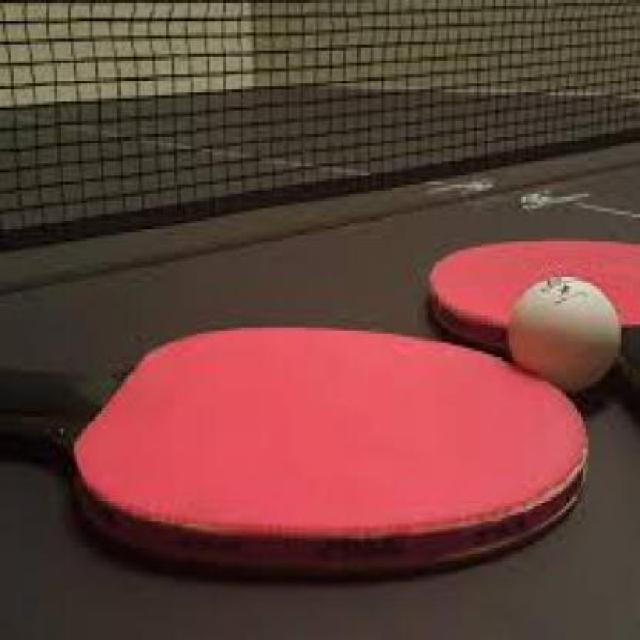table_tennis_racket: (49, 311, 591, 571), (405, 206, 638, 346)
